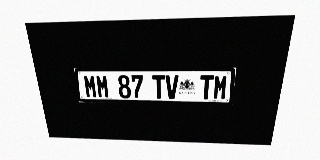7: (130, 75, 144, 98)
8: (117, 75, 131, 98)
M: (213, 75, 228, 100), (83, 75, 98, 98), (95, 75, 110, 98)
T: (199, 75, 214, 99), (152, 75, 165, 99)
V: (165, 75, 178, 99)
